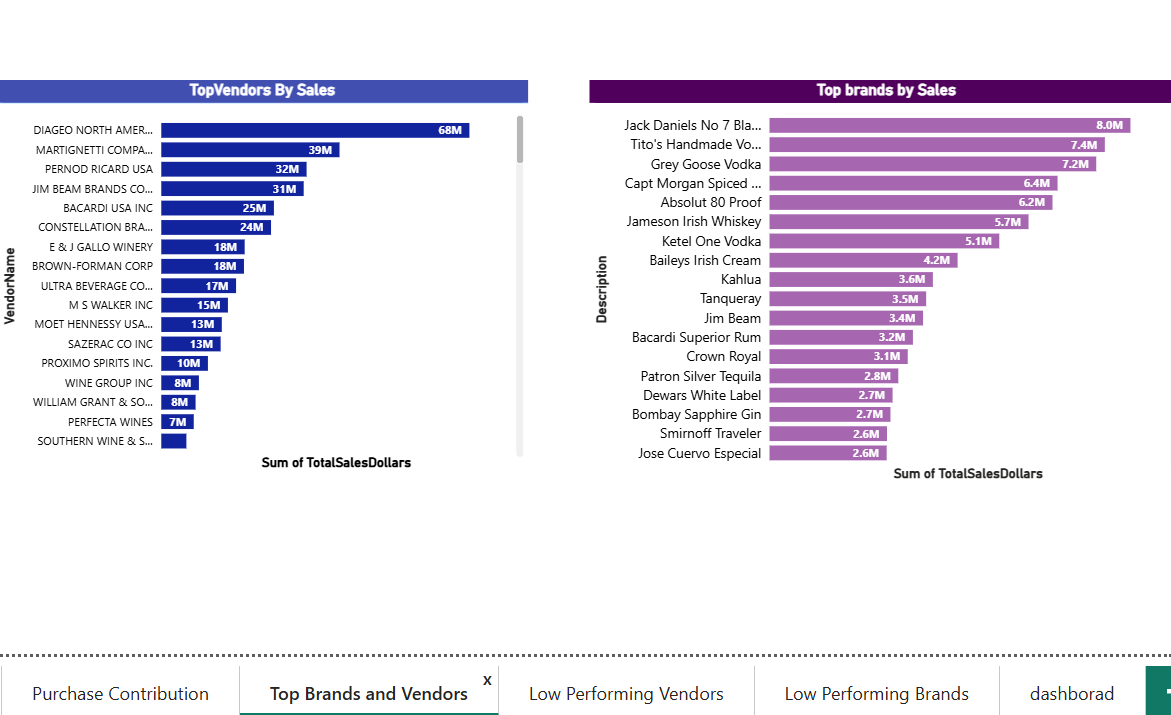

The page's visual inventory and layout, read from the dashboard file:
{"tool":"powerbi","page":{"name":"Top Brands and Vendors","canvas":[1280,720],"ordinal":2},"visuals":[{"type":"barChart","title":"TopVendors By Sales","fields":{"Category":["vendor_sales_summary.VendorName"],"Y":["Sum(vendor_sales_summary.TotalSalesDollars)"]},"box":[0,100.4,573.2,424.2],"z":0},{"type":"barChart","title":"Top brands by Sales","fields":{"Category":["vendor_sales_summary.Description"],"Y":["Sum(vendor_sales_summary.TotalSalesDollars)"]},"box":[639.6,100.4,641.2,437.2],"z":1000}]}

Visuals, with their boxes on the page's 1280x720 design canvas (x1, y1, x2, y2). These are canvas units, not pixel positions in the 1171x715 screenshot, which may show the page scaled, cropped or inside an application window:
"TopVendors By Sales" barChart: select_region(0, 100, 573, 525)
"Top brands by Sales" barChart: select_region(640, 100, 1281, 538)
